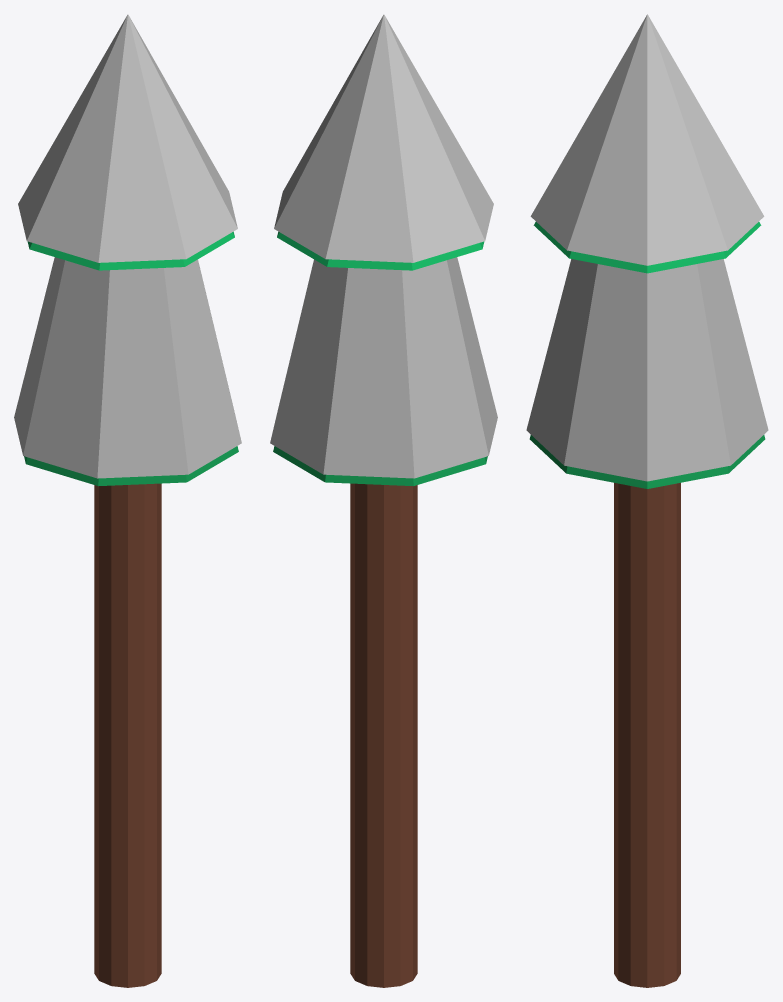
File: Tree_21_winter_gradient_green_vc.fbx
The picture shows the model from 3 angles, left to right: view 1: azimuth 30°, elevation 25°; view 2: azimuth 150°, elevation 25°; view 3: azimuth 270°, elevation 25°; orthographic projection.
Visible parts, largest first — view 1: Tree_21_winter_gradient_green_vc; view 2: Tree_21_winter_gradient_green_vc; view 3: Tree_21_winter_gradient_green_vc.
Boxes of the visible parts, <box> form: Tree_21_winter_gradient_green_vc: <box>14,14,241,987</box>; Tree_21_winter_gradient_green_vc: <box>270,14,497,987</box>; Tree_21_winter_gradient_green_vc: <box>526,14,768,987</box>.
Bounding box in the file's own units: 80.03 × 350 × 80.03.
